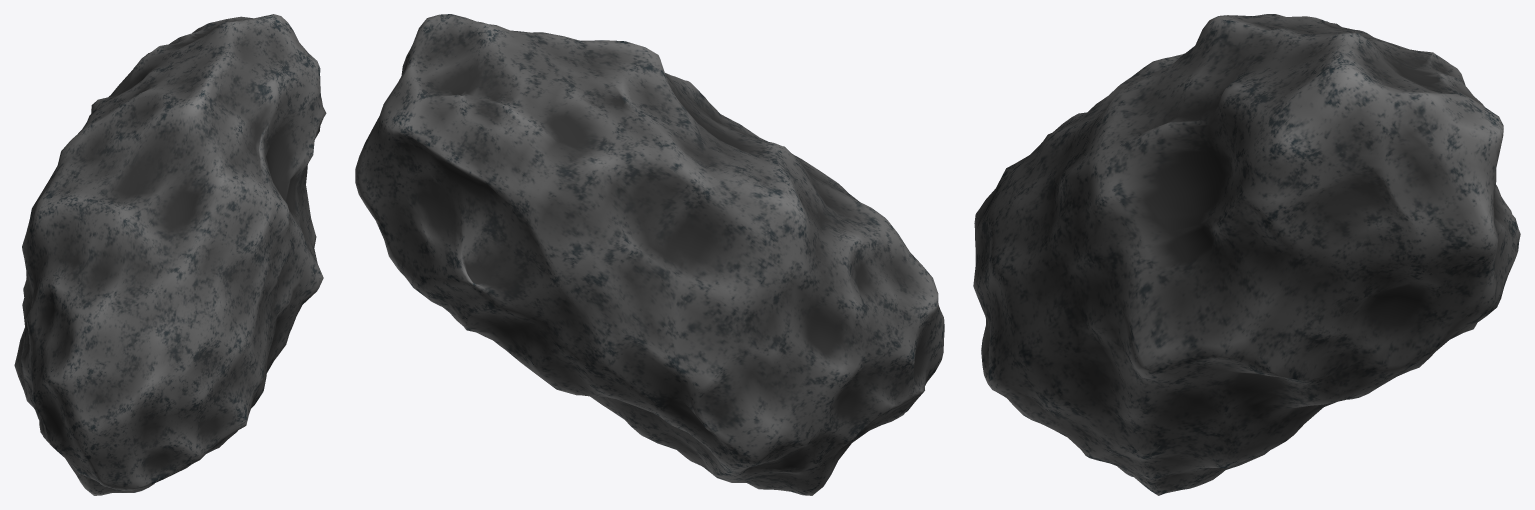
File: Asteroids.obj
The picture shows the model from 3 angles, left to right: view 1: azimuth 30°, elevation 25°; view 2: azimuth 150°, elevation 25°; view 3: azimuth 270°, elevation 25°; orthographic projection. The views are drawn at different scales.
Visible parts, largest first — view 1: pedra3; view 2: pedra3; view 3: pedra3.
Part boxes in pixels (x1,y1,x2,y2): pedra3: (14, 14, 326, 495); pedra3: (355, 14, 944, 495); pedra3: (973, 14, 1520, 495).
Size of the model in its own units: 5 by 5.35 by 4.66.
1 material, 1 textured.
